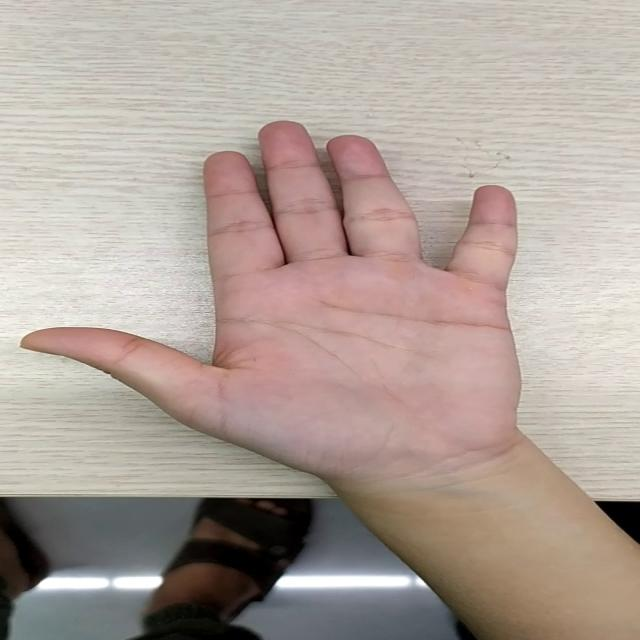hand: (16, 120, 547, 459)
